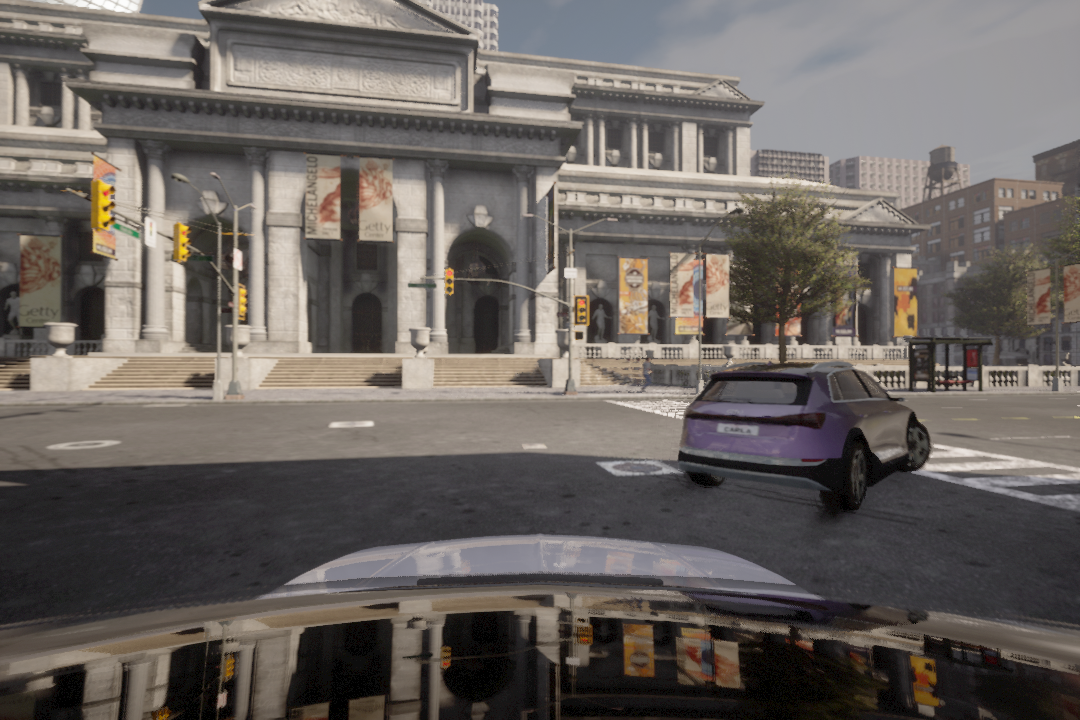TrafficLight: (91, 178, 116, 237), (173, 224, 191, 265), (440, 265, 459, 302), (575, 296, 591, 326), (234, 285, 248, 317)
walkside: (617, 396, 1080, 519)
